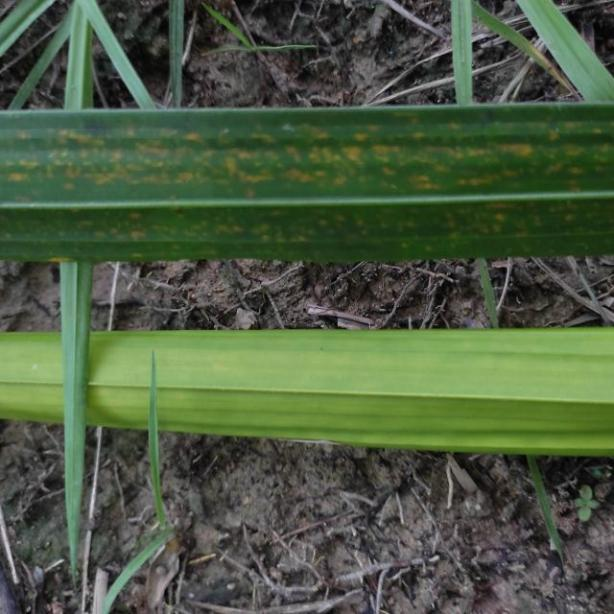Megnesium: (0, 331, 614, 459)
